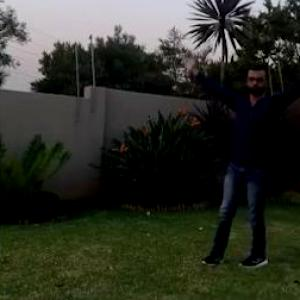takeoff: (195, 53, 299, 266)
